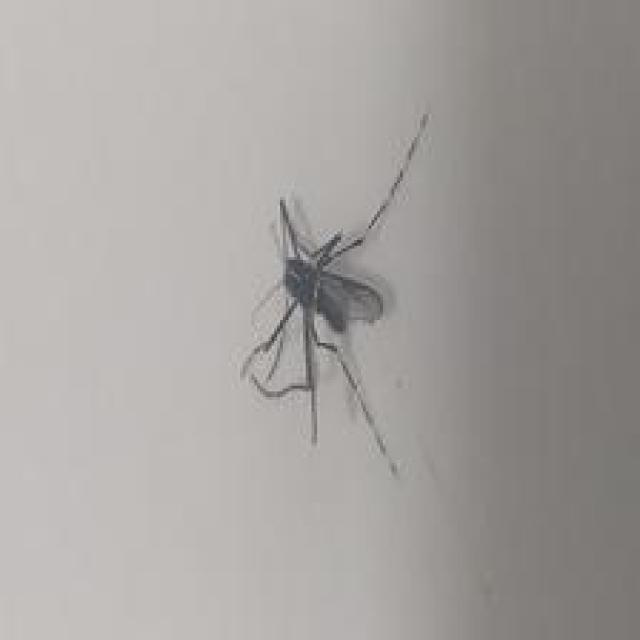Aedes albopictus: (239, 112, 430, 477)
